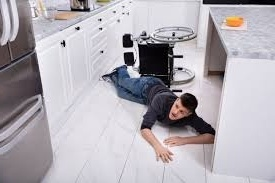fall: (96, 63, 223, 164)
